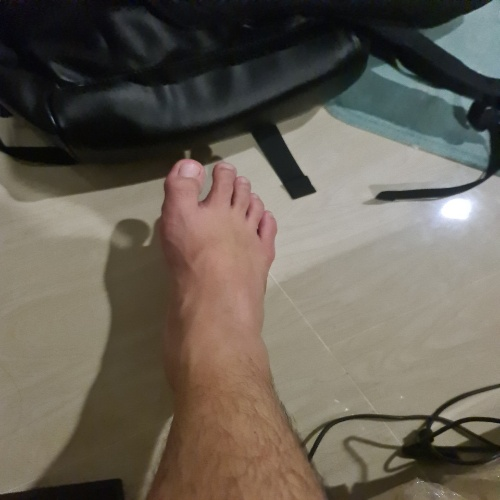3: (164, 158, 205, 211)
Top_Foot: (163, 158, 278, 408)
